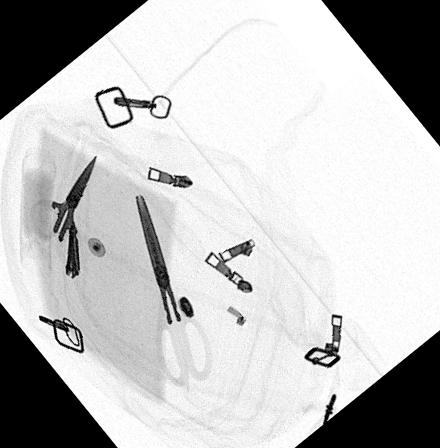Scissors: (132, 192, 214, 391), (26, 150, 100, 285)
